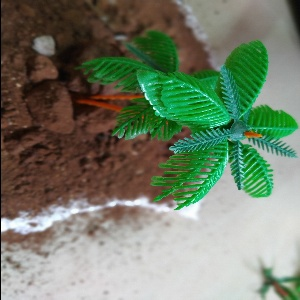plant: (86, 28, 300, 249)
